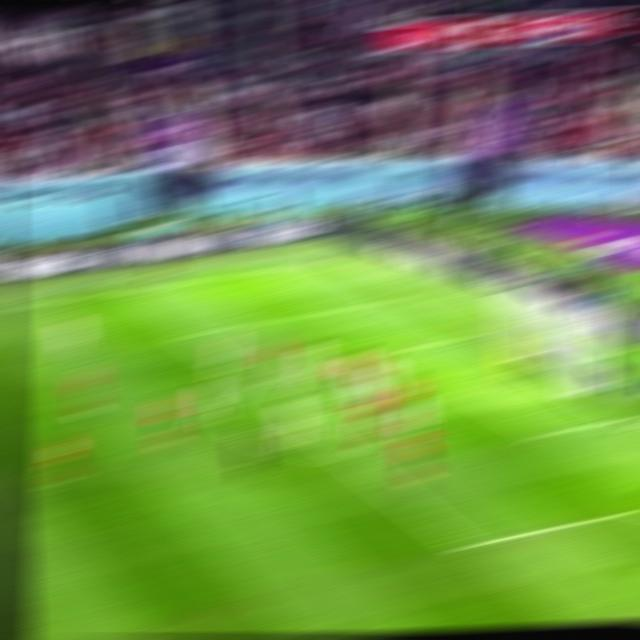bigarea_bottom_inner: (449, 537, 481, 556)
bigarea_top_inner: (169, 329, 201, 345)
bigarea_top_outter: (377, 294, 409, 307)
bottom_arc_area_intersection: (334, 448, 364, 469)
corner: (306, 259, 330, 265)
smallarea_bottom_inner: (525, 426, 558, 445)
smallarea_bottom_outter: (610, 411, 640, 428)
smallarea_top_inner: (380, 341, 412, 360)
smallarea_top_outter: (448, 331, 481, 345)
top_arc_area_intersection: (236, 377, 266, 393)
